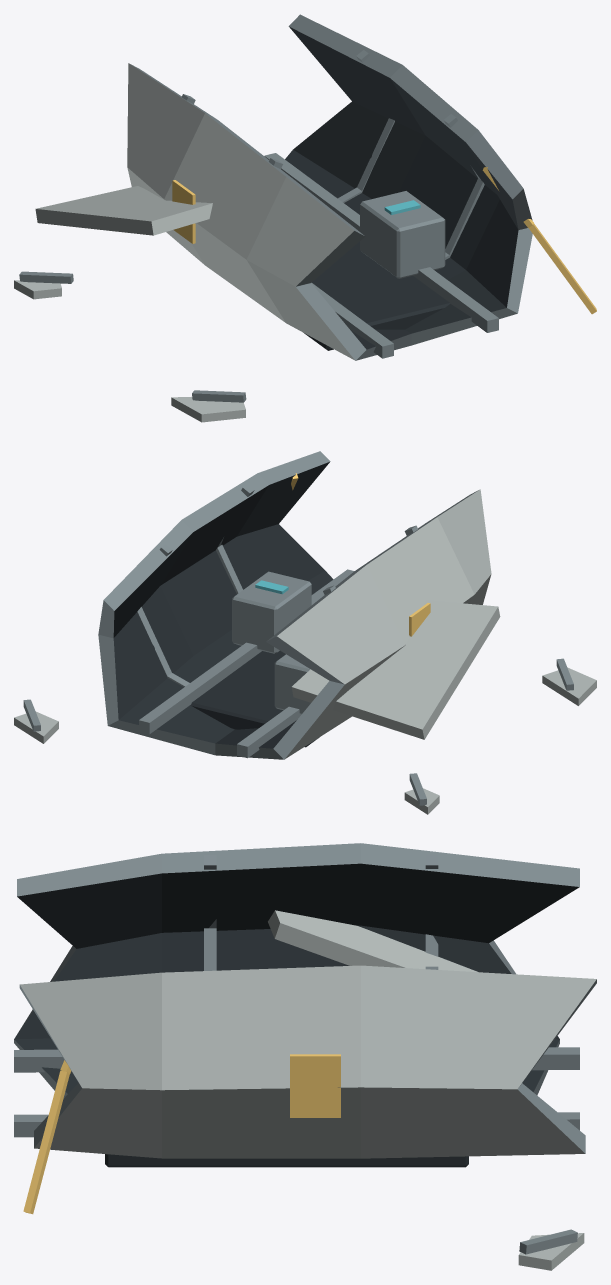
Rendered from debris-hull.glb.
3 views of the same model, one above another, from view 1: azimuth 30°, elevation 25°; view 2: azimuth 150°, elevation 25°; view 3: azimuth 270°, elevation 25° (orthographic). The views are drawn at different scales.
Parts seen in each view (by area): view 1: debris-hull / Survey ship ivory armor, debris-hull / Scorched graphite interiors, debris-hull / Exposed survey ship frame, debris-hull / Survey ship gold identification; view 2: debris-hull / Survey ship ivory armor, debris-hull / Scorched graphite interiors, debris-hull / Exposed survey ship frame; view 3: debris-hull / Survey ship ivory armor, debris-hull / Scorched graphite interiors, debris-hull / Exposed survey ship frame, debris-hull / Survey ship gold identification.
Part boxes in pixels (x1=…): debris-hull / Survey ship ivory armor: x1=14, y1=63, x2=355, y2=422; debris-hull / Scorched graphite interiors: x1=285, y1=26, x2=518, y2=350; debris-hull / Exposed survey ship frame: x1=19, y1=14, x2=532, y2=402; debris-hull / Survey ship gold identification: x1=172, y1=167, x2=596, y2=314; debris-hull / Survey ship ivory armor: x1=14, y1=489, x2=596, y2=814; debris-hull / Scorched graphite interiors: x1=113, y1=462, x2=333, y2=748; debris-hull / Exposed survey ship frame: x1=23, y1=451, x2=573, y2=805; debris-hull / Survey ship ivory armor: x1=20, y1=910, x2=596, y2=1270; debris-hull / Scorched graphite interiors: x1=14, y1=863, x2=579, y2=1167; debris-hull / Exposed survey ship frame: x1=14, y1=843, x2=596, y2=1254; debris-hull / Survey ship gold identification: x1=23, y1=1054, x2=340, y2=1214.
Size of the model in its own units: 2.22 by 0.9348 by 2.05.
